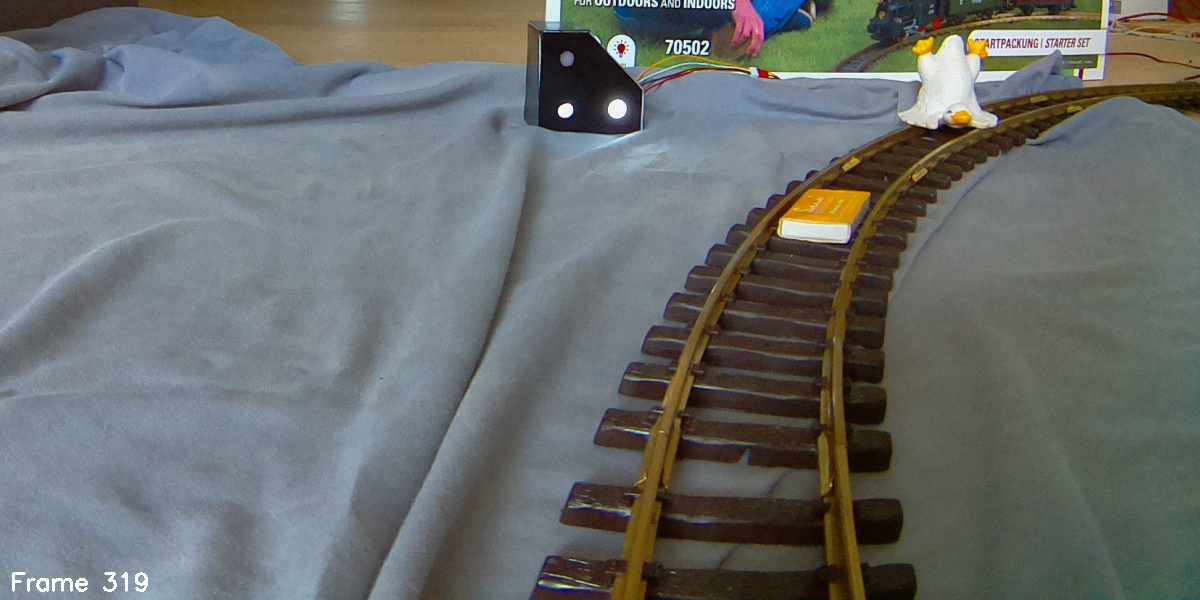Ente: (894, 35, 1000, 135)
Halt: (527, 21, 642, 130)
